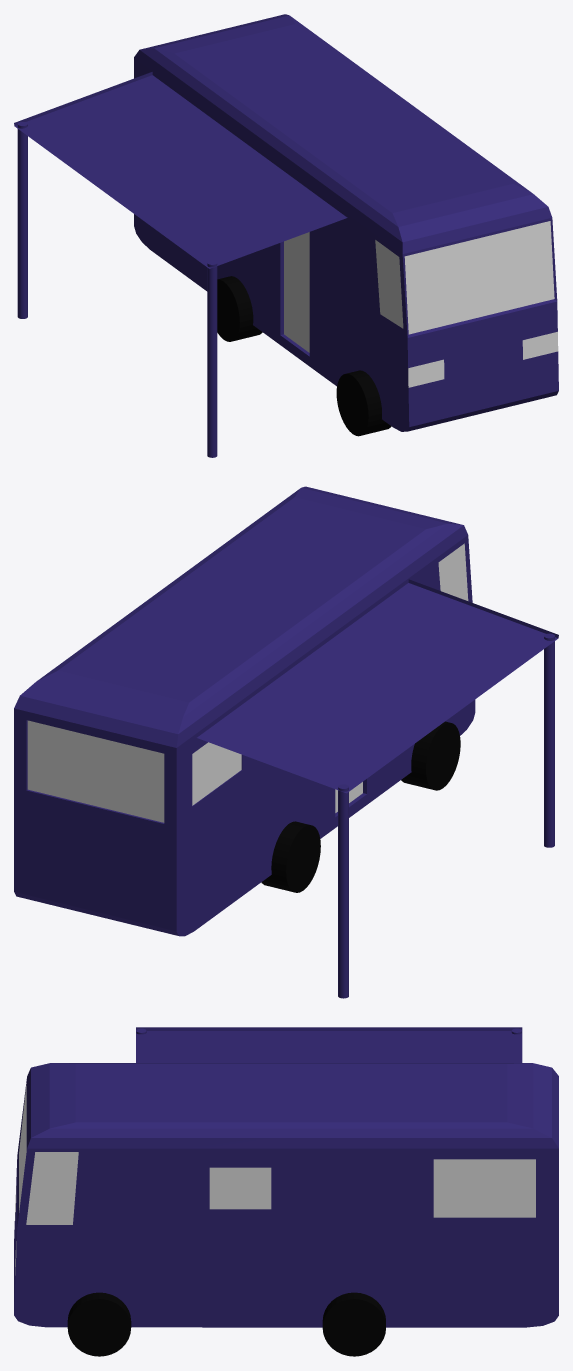
The model's file is motorhome 2.fbx.
3 views of the same model, one above another, from view 1: azimuth 30°, elevation 25°; view 2: azimuth 150°, elevation 25°; view 3: azimuth 270°, elevation 25° (orthographic). The views are drawn at different scales.
Visible parts, largest first — view 1: Motorhome 2; view 2: Motorhome 2; view 3: Motorhome 2.
Part boxes in pixels (x1,y1,x2,y2): Motorhome 2: (14, 14, 558, 457); Motorhome 2: (14, 486, 558, 998); Motorhome 2: (14, 1027, 558, 1356).
Bounding box in the file's own units: 565 × 413 × 892.
